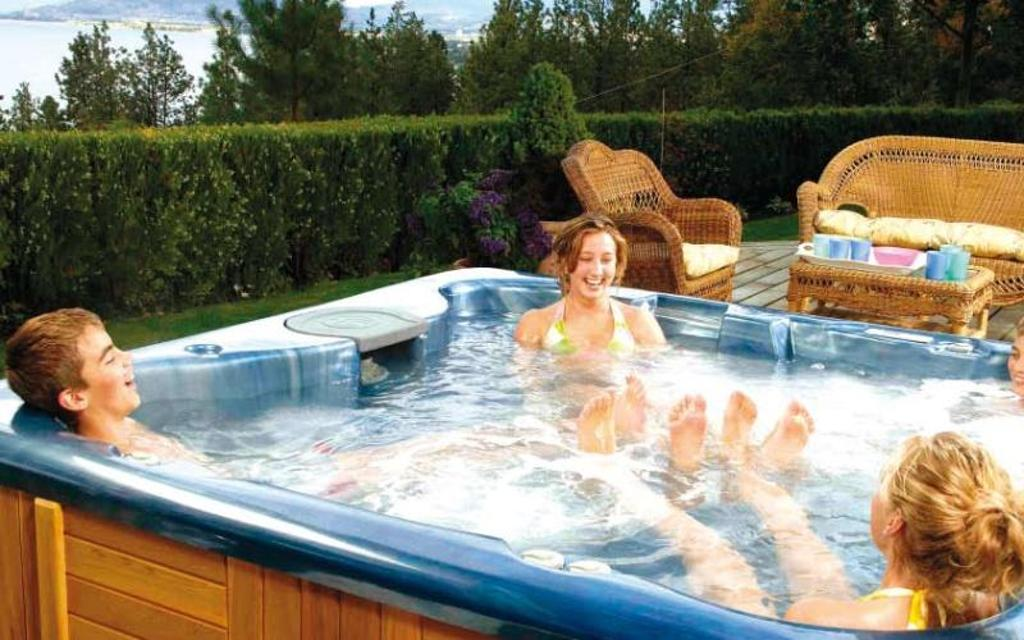face: (74, 320, 142, 410), (564, 238, 618, 300)
